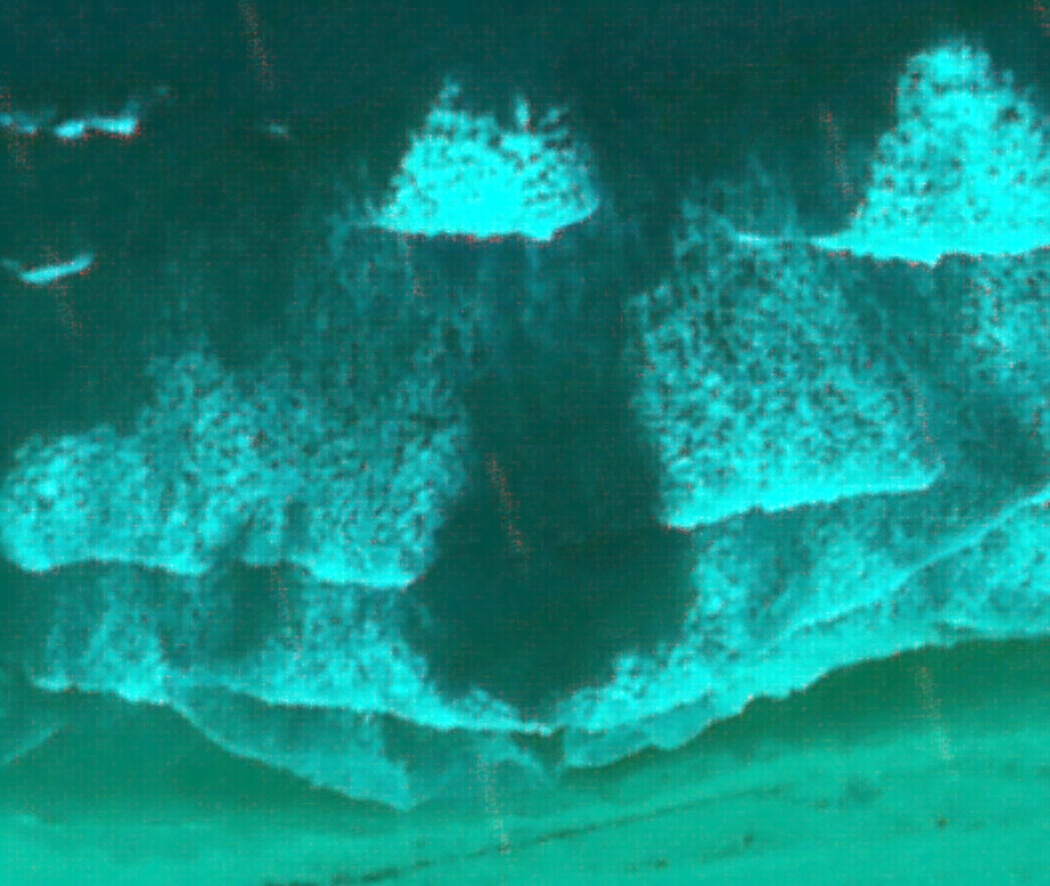rip_current: (325, 126, 744, 710)
